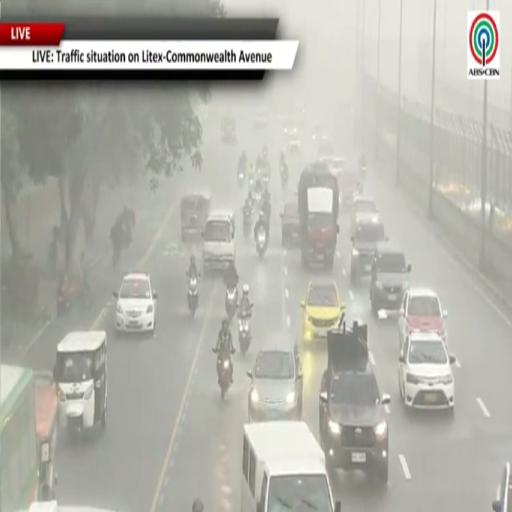bus: (0, 365, 38, 511)
car: (319, 319, 390, 485), (399, 332, 455, 411), (248, 344, 302, 422), (370, 243, 411, 313), (301, 279, 345, 343), (399, 287, 447, 344), (114, 271, 157, 332), (351, 222, 387, 284), (203, 212, 235, 271), (336, 170, 363, 211), (351, 196, 380, 233), (492, 462, 511, 511), (280, 202, 300, 248), (222, 116, 236, 143), (316, 136, 333, 157), (253, 108, 269, 130), (287, 133, 301, 155), (331, 156, 345, 174), (312, 124, 326, 141), (319, 155, 333, 169), (284, 123, 298, 137)
motorcycle: (213, 348, 235, 399), (57, 282, 91, 315), (187, 272, 199, 317), (239, 313, 251, 355), (225, 286, 238, 321), (256, 230, 267, 258), (243, 211, 252, 238), (280, 165, 288, 188), (238, 171, 245, 187), (263, 173, 269, 188), (255, 190, 261, 203), (249, 176, 254, 189), (361, 165, 366, 175)
truck: (298, 162, 339, 269)
